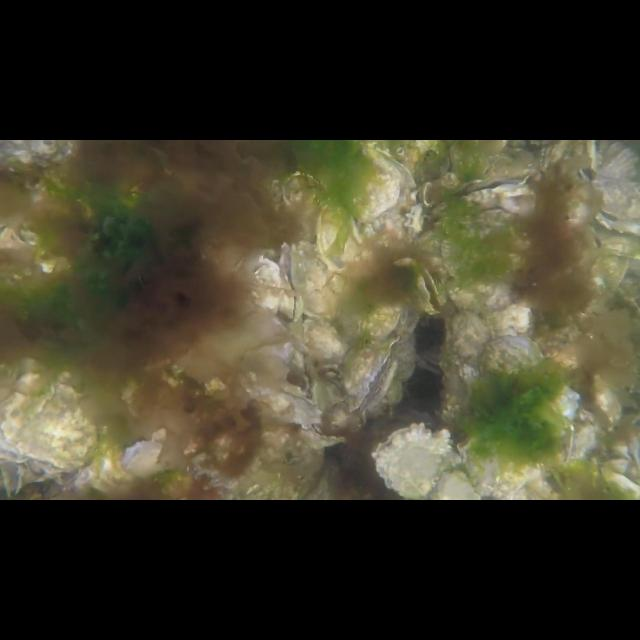Oyster-Closed: (0, 372, 98, 472), (474, 333, 580, 422), (458, 430, 544, 500), (346, 140, 402, 226), (240, 382, 324, 431), (450, 310, 494, 402), (315, 204, 369, 276), (298, 241, 336, 319), (446, 273, 516, 309), (302, 318, 350, 370), (0, 140, 74, 172), (592, 252, 628, 296), (598, 228, 640, 260)
Oyster-Open: (371, 424, 451, 500), (590, 140, 640, 234), (449, 176, 537, 228), (344, 336, 400, 412), (361, 299, 422, 346), (245, 256, 282, 316), (122, 428, 166, 476), (278, 243, 302, 321), (278, 355, 312, 399), (417, 268, 445, 316), (304, 422, 348, 452), (574, 140, 598, 184)
